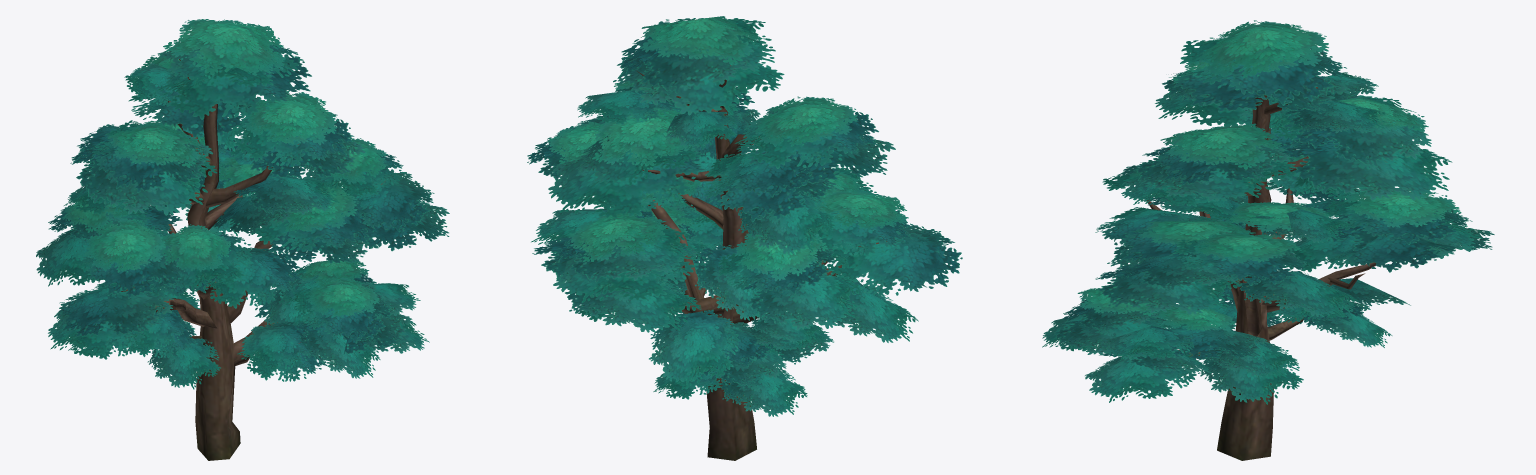
File: tongyong_toutie_10_10.fbx
3 views of the same model, side by side, from view 1: azimuth 30°, elevation 25°; view 2: azimuth 150°, elevation 25°; view 3: azimuth 270°, elevation 25° (orthographic). The views are drawn at different scales.
Visible parts, largest first — view 1: tongyong_toutie_10_10; view 2: tongyong_toutie_10_10; view 3: tongyong_toutie_10_10.
Boxes of the visible parts, x1,y1,x2,y2 form: tongyong_toutie_10_10: [36, 19, 449, 460]; tongyong_toutie_10_10: [527, 16, 962, 460]; tongyong_toutie_10_10: [1042, 20, 1494, 460].
Bounding box in the file's own units: 1045 × 1029 × 1077.
